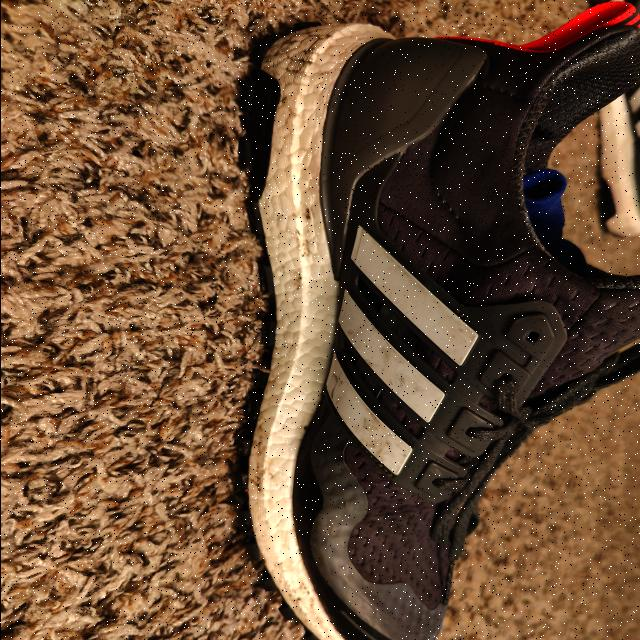black shoes: (256, 26, 640, 628)
